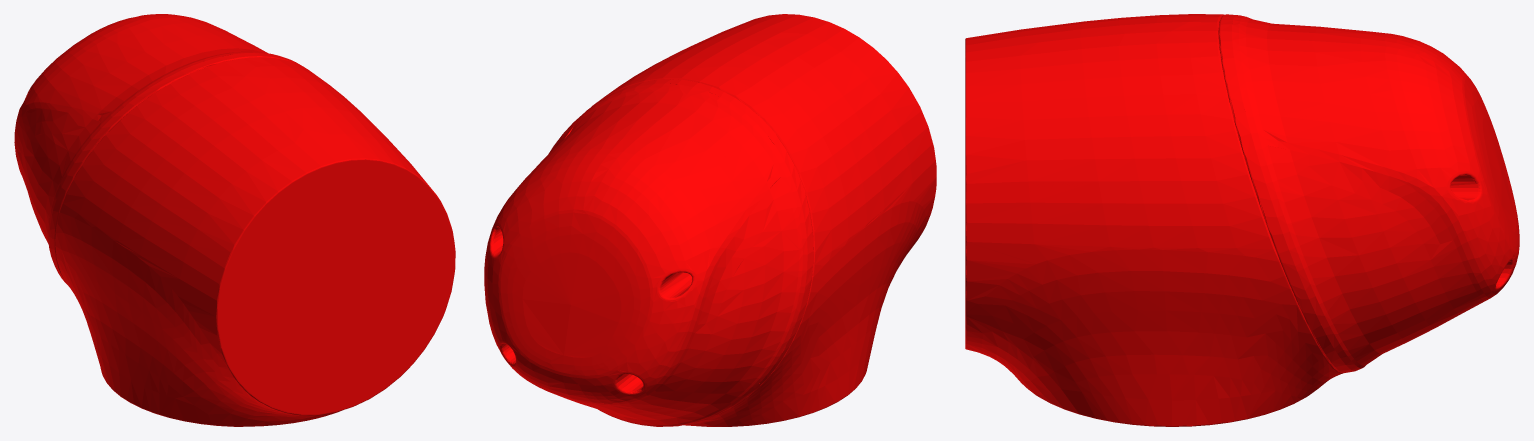
3 renders of one model, left to right at view 1: azimuth 30°, elevation 25°; view 2: azimuth 150°, elevation 25°; view 3: azimuth 270°, elevation 25°, orthographic. The views are drawn at different scales.
Parts seen in each view (by area): view 1: A0509_4_1; view 2: A0509_4_1; view 3: A0509_4_1.
Boxes of the visible parts, bbox=[...] form: A0509_4_1: bbox=[14, 14, 455, 426]; A0509_4_1: bbox=[484, 14, 936, 426]; A0509_4_1: bbox=[965, 14, 1519, 426].
Bounding box in the file's own units: 101 × 155 × 101.
